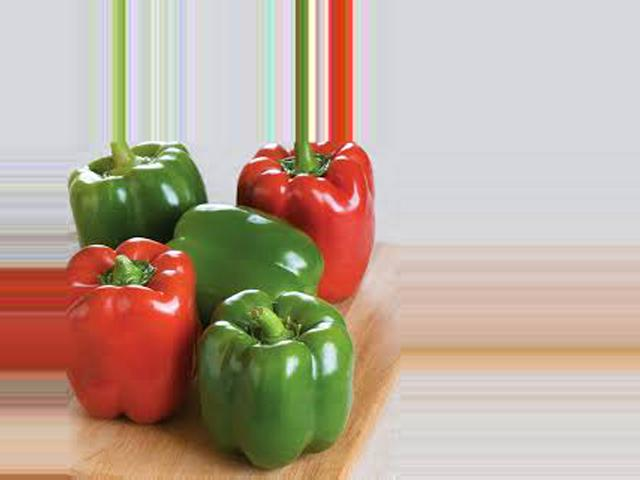bell_pepper: (66, 242, 203, 440)
